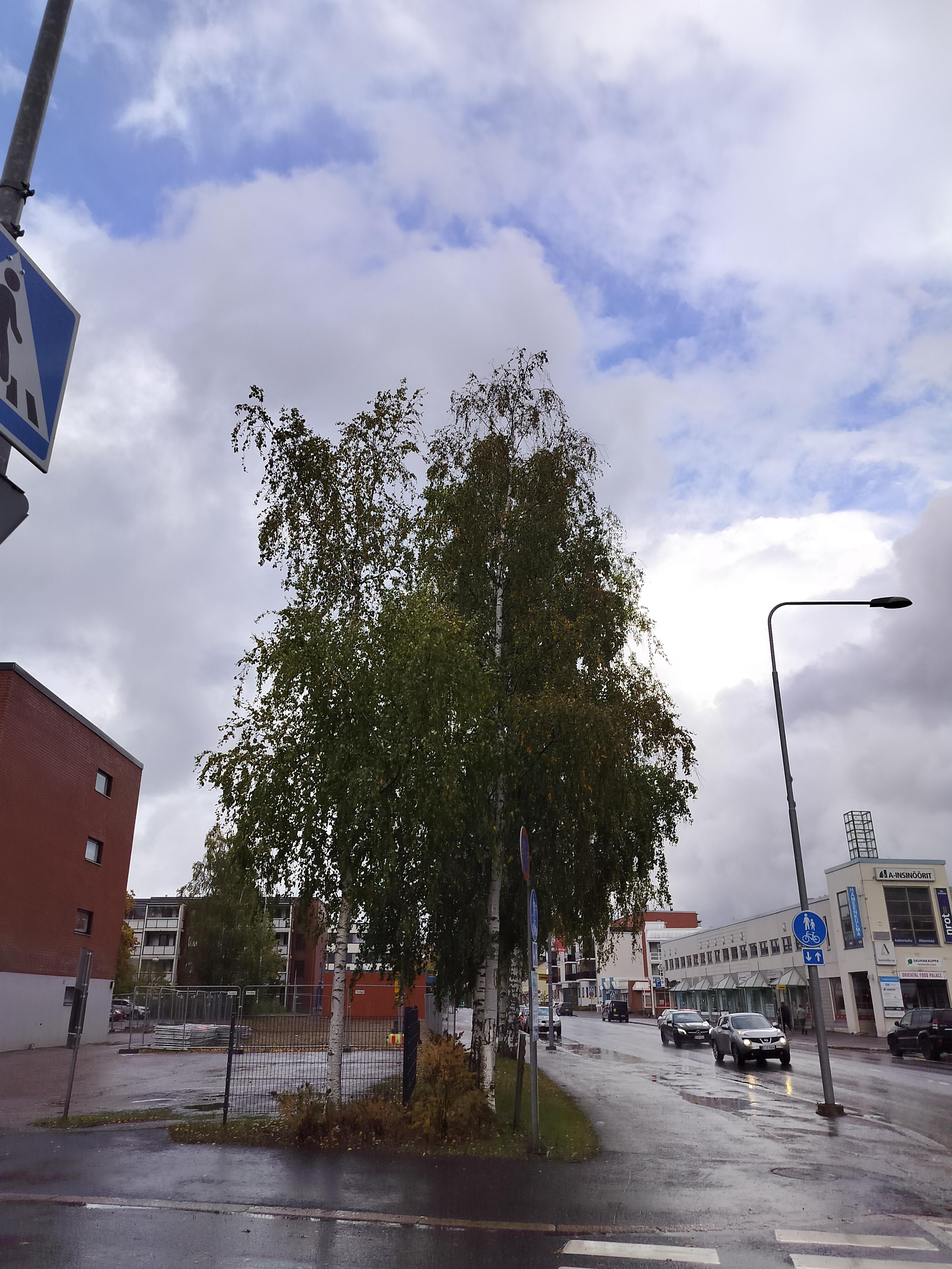Birch: (193, 343, 699, 1134), (381, 351, 698, 1124), (229, 362, 434, 1105)
